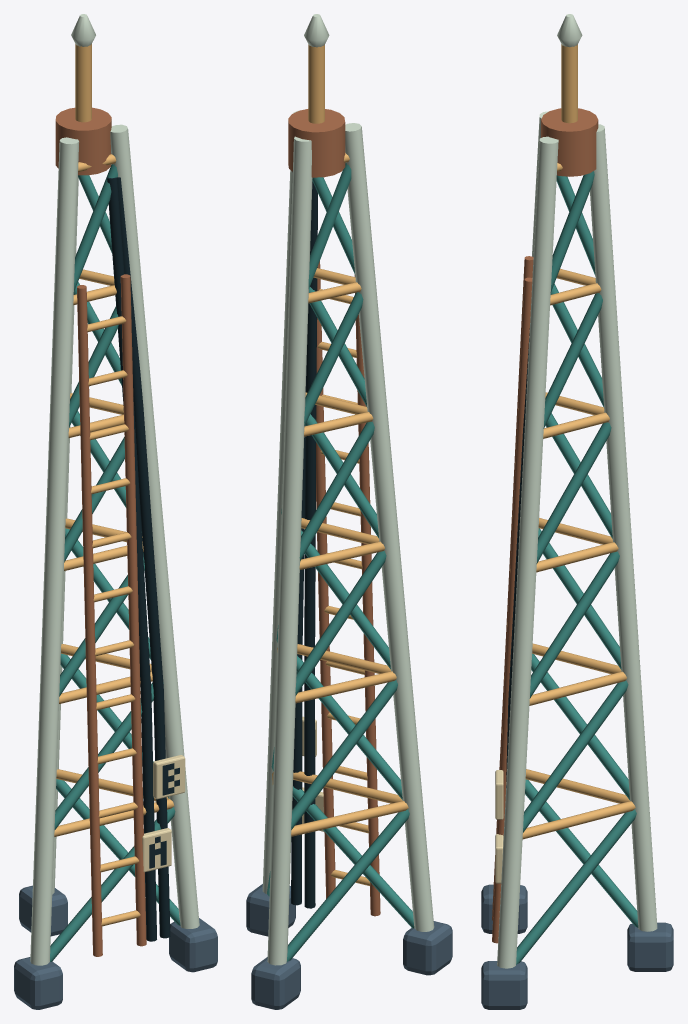
3 views of the same model, side by side, from view 1: azimuth 30°, elevation 25°; view 2: azimuth 150°, elevation 25°; view 3: azimuth 270°, elevation 25° (orthographic).
Parts seen in each view (by area): view 1: PR062 enamel and hardware; view 2: PR062 enamel and hardware; view 3: PR062 enamel and hardware.
Part boxes in pixels (left/top/right/bottom): PR062 enamel and hardware: left=14, top=14, right=217, bottom=1009; PR062 enamel and hardware: left=246, top=14, right=452, bottom=1009; PR062 enamel and hardware: left=481, top=14, right=673, bottom=1009.
Bounding box in the file's own units: 0.65 × 3.14 × 0.5757.
